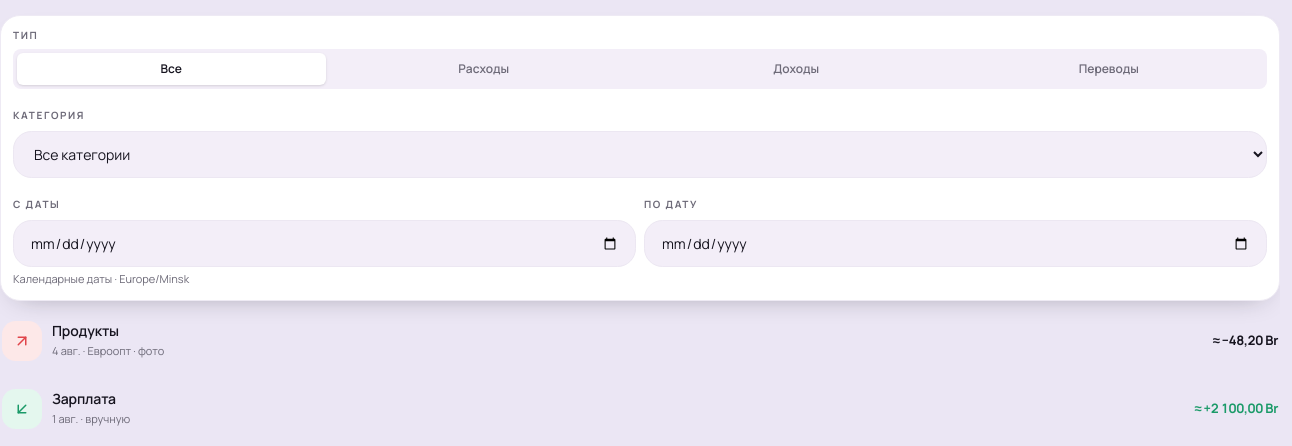
Test: HistoryPanel › clears filters and restores the full list
This screenshot has width=1292, height=446.
Click the button "Расходы" at (484, 69), box [330, 53, 638, 85]
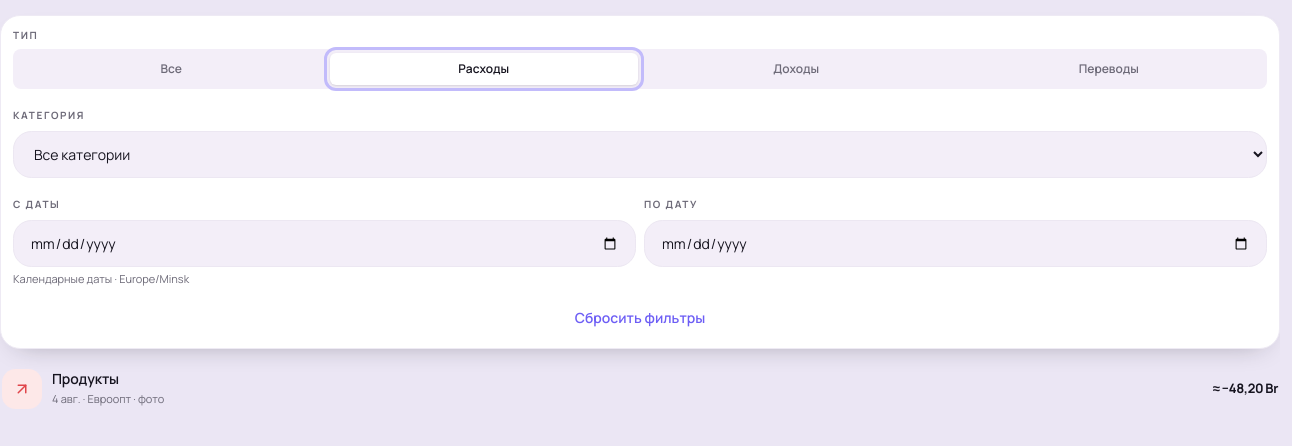
Now the link "Зарплата" is gone
Click the button "Сбросить фильтры" at (640, 318), box [13, 300, 1267, 336]
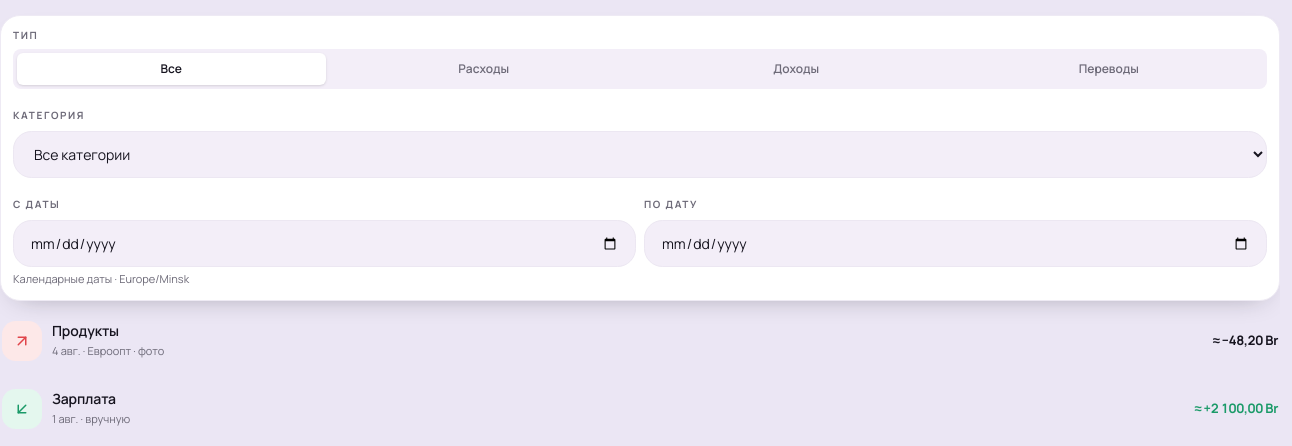
Expected: the text "Продукты" is shown, [52, 321, 119, 340]
Now the text "Зарплата" is shown, box [52, 389, 116, 408]
Now the button "Сбросить фильтры" is gone
